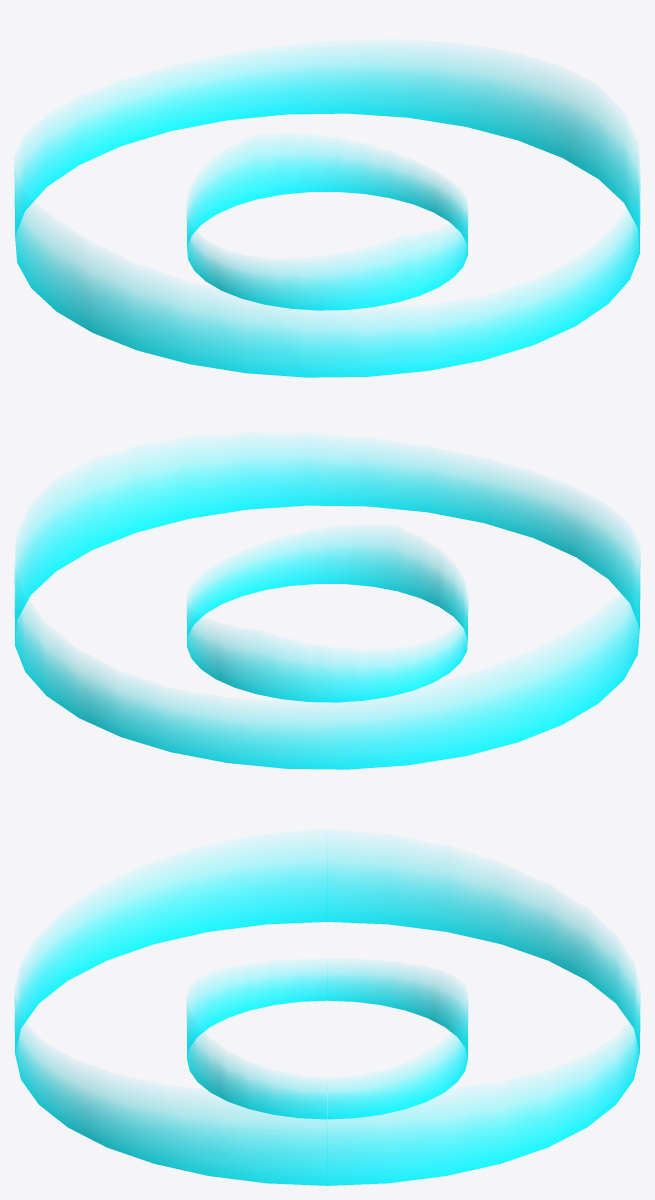
File: StartPadLight.glb
The picture shows the model from 3 angles, top to bottom: view 1: azimuth 30°, elevation 25°; view 2: azimuth 150°, elevation 25°; view 3: azimuth 270°, elevation 25°; orthographic projection.
Parts seen in each view (by area): view 1: StartPadLight; view 2: StartPadLight; view 3: StartPadLight.
Part boxes in pixels (x1,y1,x2,y2): StartPadLight: [14, 48, 640, 377]; StartPadLight: [14, 441, 640, 769]; StartPadLight: [14, 836, 640, 1185].
Size of the model in its own units: 1.7 by 0.3883 by 1.7.
Materials: 1 (1 with a texture image).
